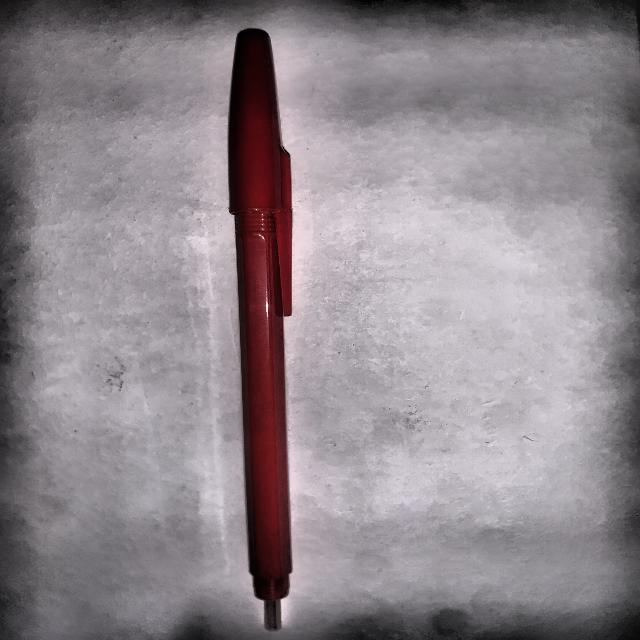Pulpen: (199, 22, 321, 640)
